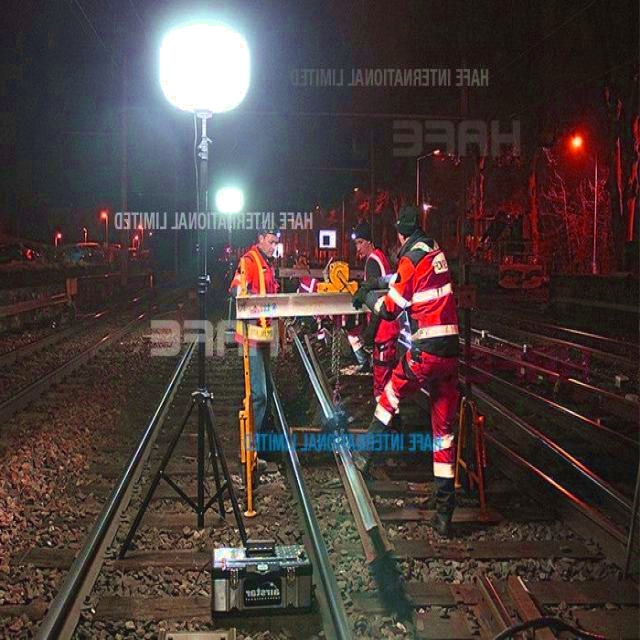Con_Chaleco: (394, 242, 458, 352), (229, 254, 280, 300)
